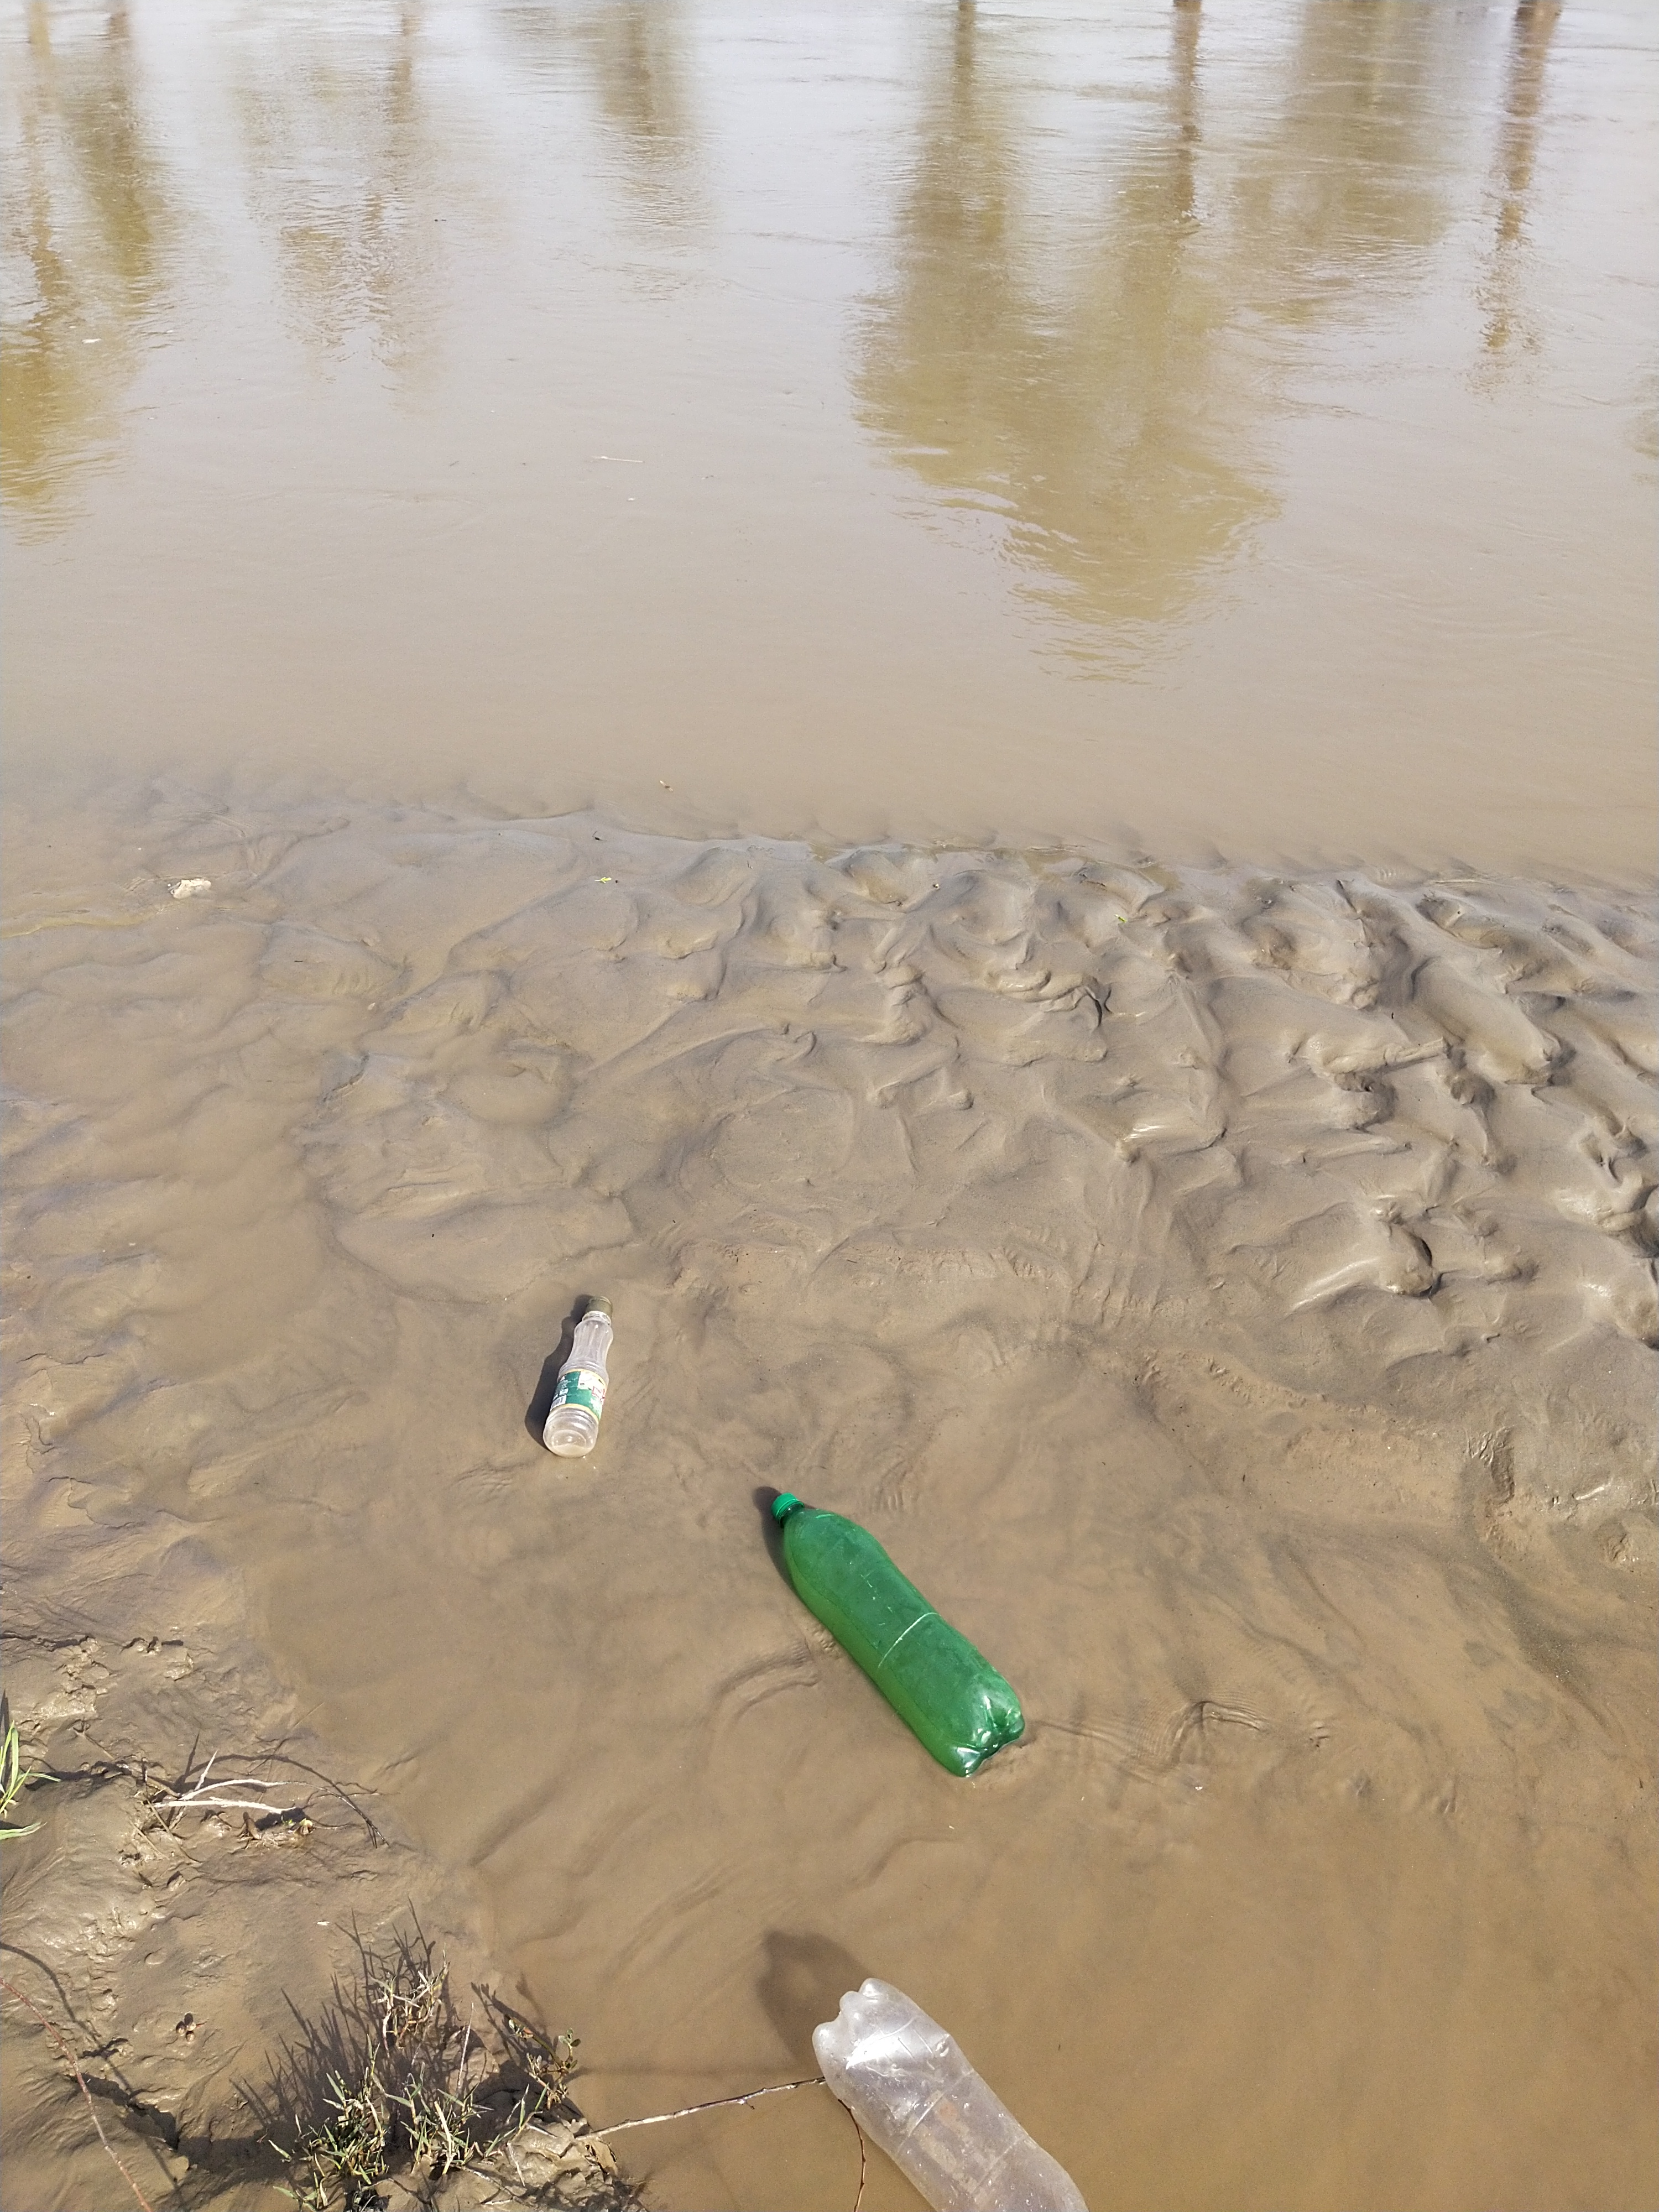Plastic Bottle: (770, 1493, 1025, 1777), (812, 1977, 1087, 2209), (542, 1296, 613, 1458)
